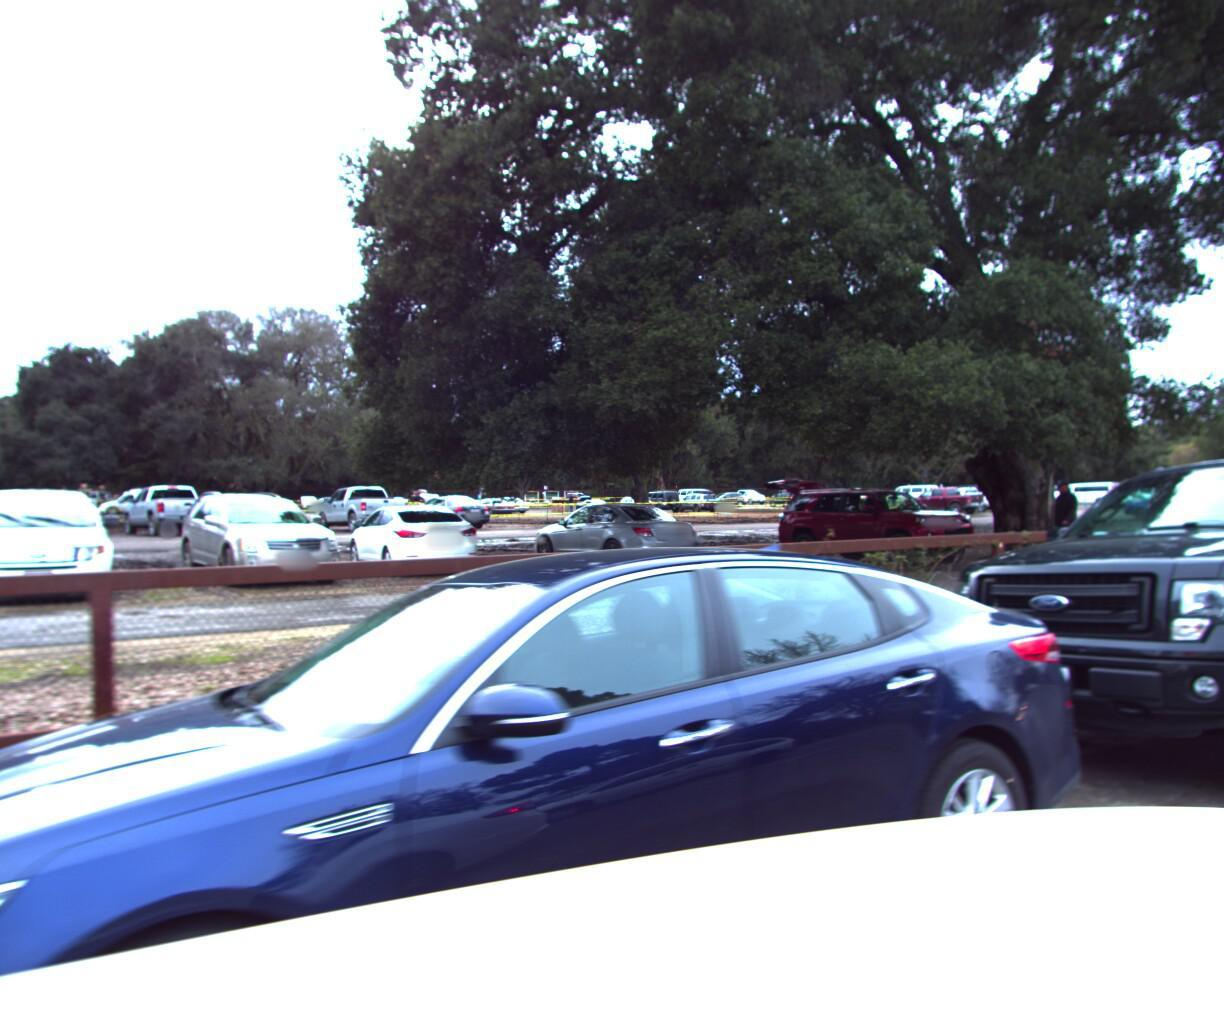car: (0, 516, 1130, 1024), (881, 391, 1224, 869), (766, 472, 990, 564), (161, 483, 350, 593), (0, 472, 111, 608), (524, 498, 706, 566), (340, 499, 486, 576)
